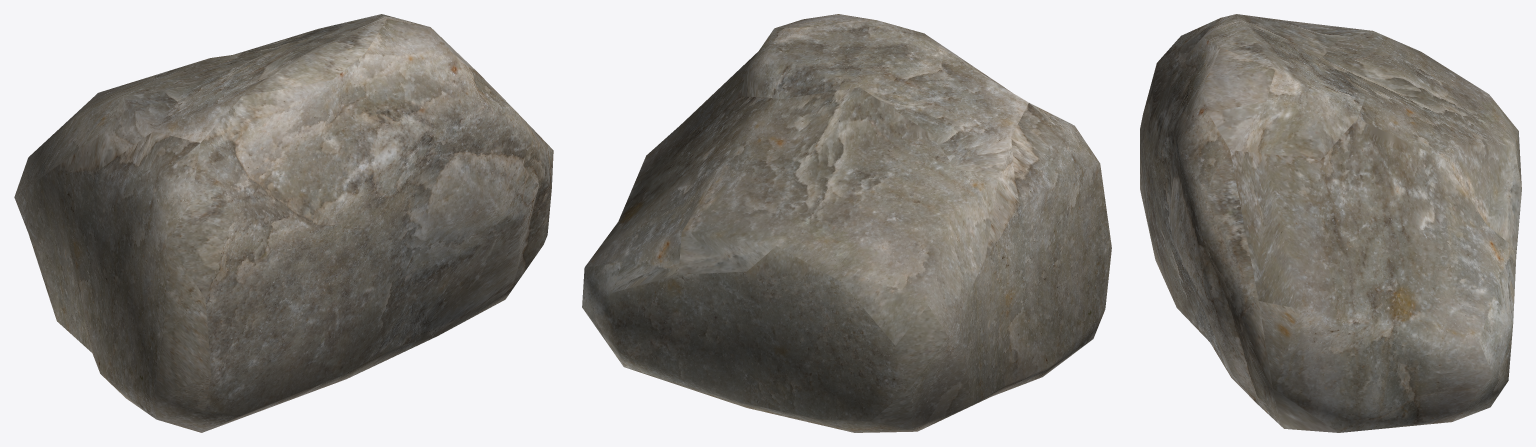
The model's file is batu kecil 2.fbx.
3 views of the same model, side by side, from view 1: azimuth 30°, elevation 25°; view 2: azimuth 150°, elevation 25°; view 3: azimuth 270°, elevation 25° (orthographic). The views are drawn at different scales.
Visible parts, largest first — view 1: batu kecil 2; view 2: batu kecil 2; view 3: batu kecil 2.
Boxes of the visible parts, x1,y1,x2,y2 form: batu kecil 2: (14, 14, 553, 432); batu kecil 2: (582, 14, 1111, 432); batu kecil 2: (1140, 14, 1521, 432).
Bounding box in the file's own units: 31.39 × 22.19 × 24.57.
